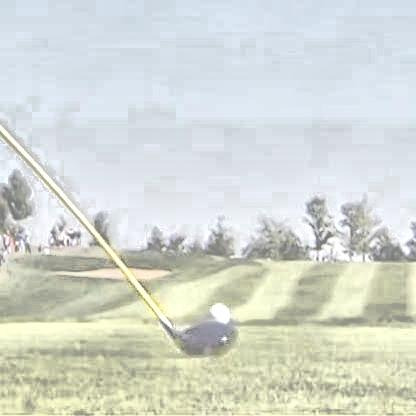golfball: (206, 301, 227, 325)
